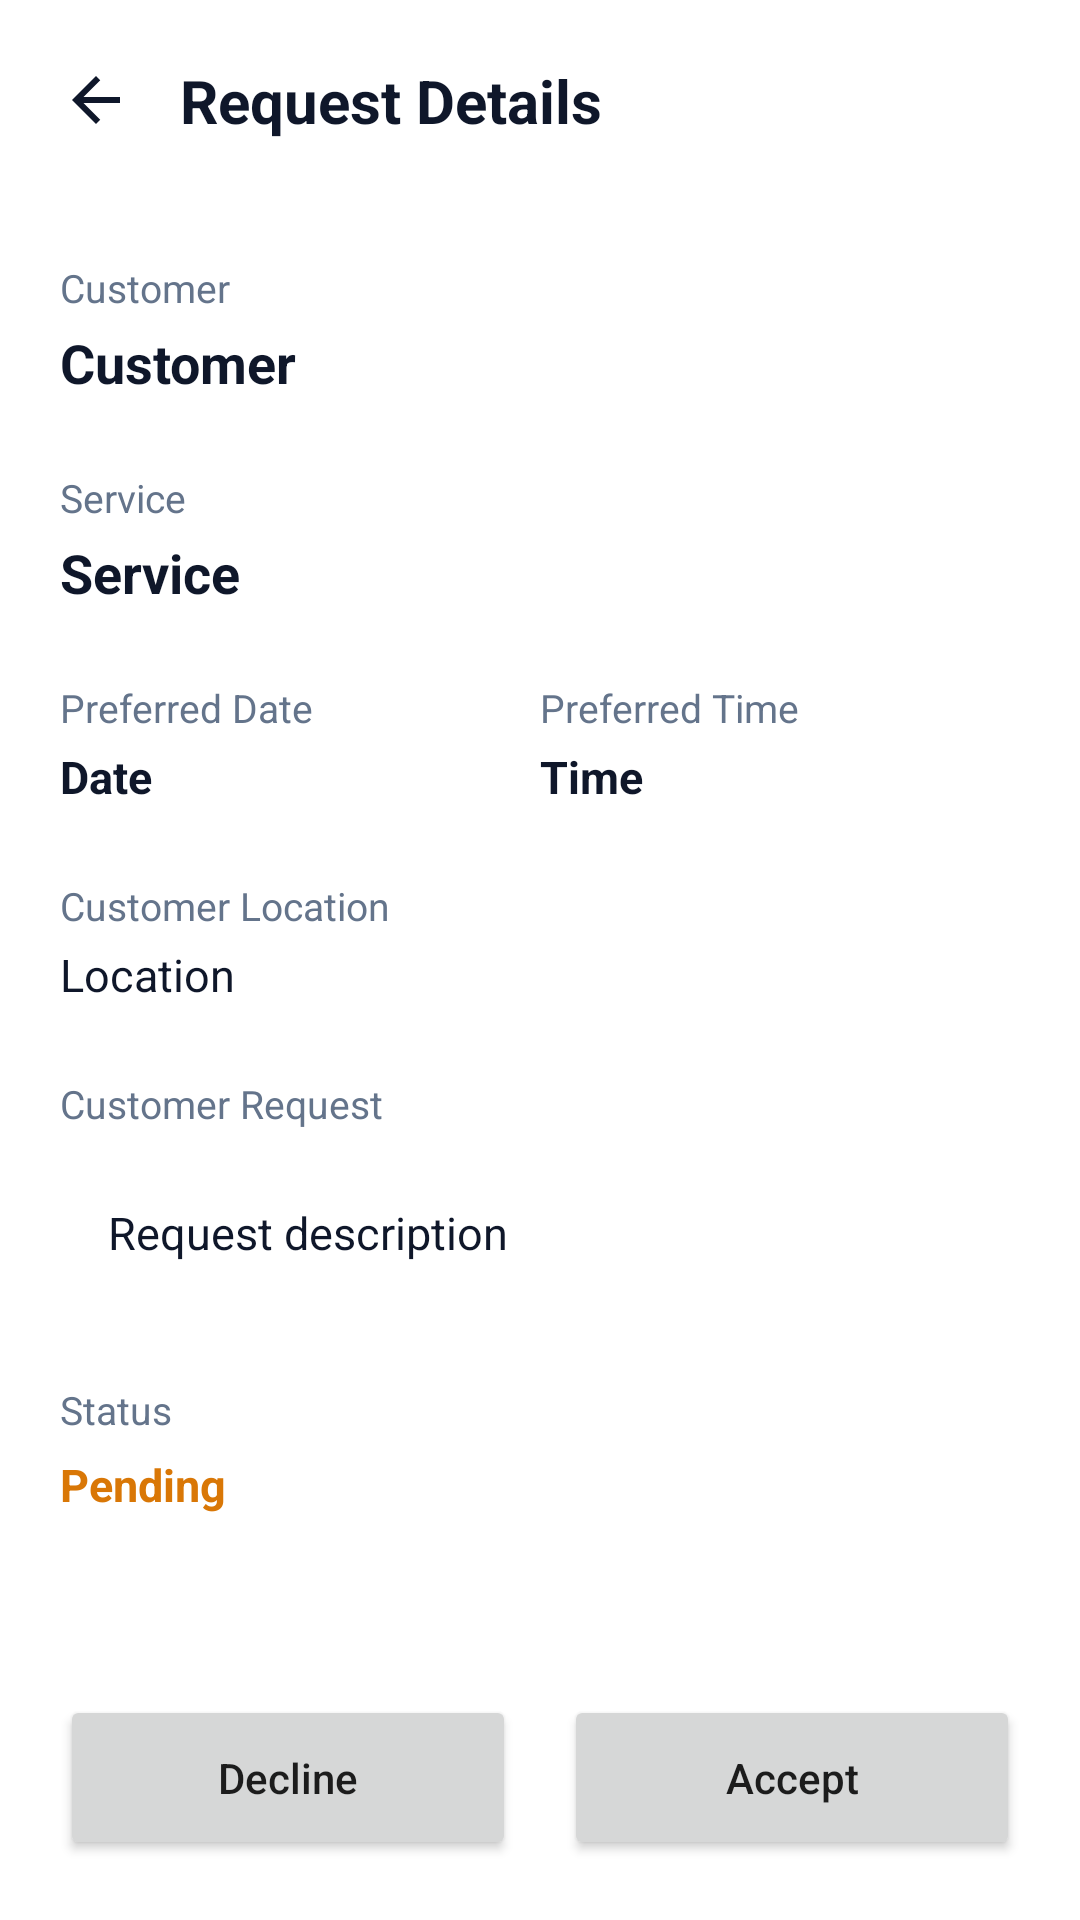

Icon click points for this 1080w x 1920h phone screenshot, format point (x, y):
Back: point (96, 100)
